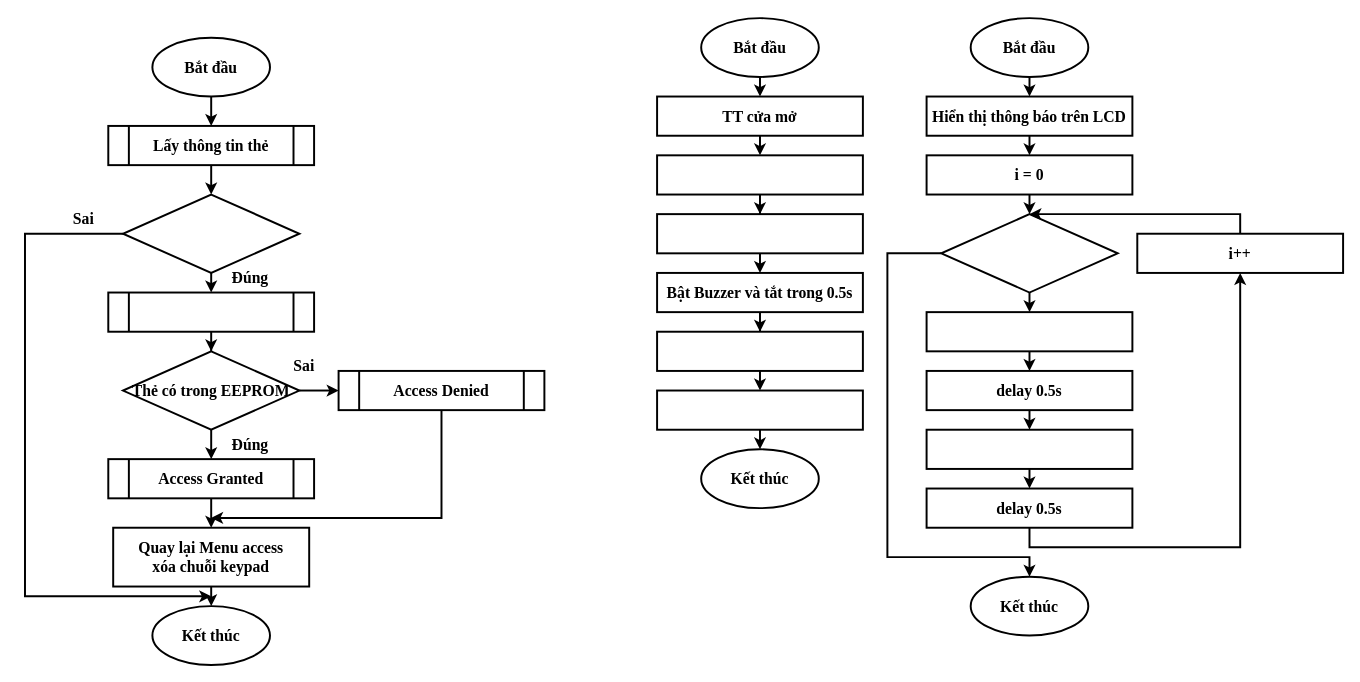
This 1360x682 diagram has some shape labels left out. The centre of each missing label's shape, as x and y in pixels:
"Bật buzzer" belongs at (x=1029, y=331).
"Bật chốt cửa (chốt kéo vào)" belongs at (x=759, y=174).
"Có thẻ được quét" belongs at (x=211, y=233).
"Hiển thị tb cửa đã mở" belongs at (x=759, y=350).
"Hiển thị thông báo cho phép truy cập lên LCD" belongs at (x=759, y=233).
"i < 2" belongs at (x=1029, y=253).
"Tìm kiếm thẻ trong EEPROM" belongs at (x=211, y=311).
"Tắt buzzer" belongs at (x=1029, y=448).
"Xoay servor góc [độ] reset giá trị lần cấm" belongs at (x=759, y=409).
